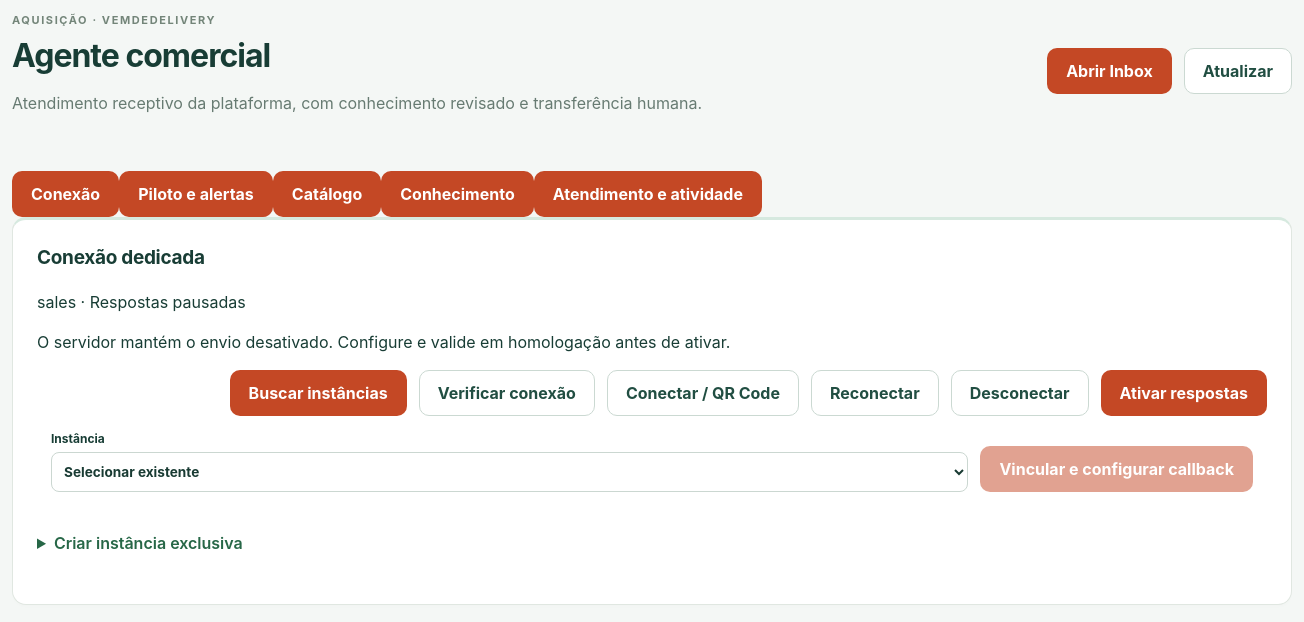
Test: separates commercial configuration and inbox without publishing invalid prices
Later steps or results of the test are not shown.
Click the tab "Catálogo".
click(327, 194)  # box [273,171,381,217]
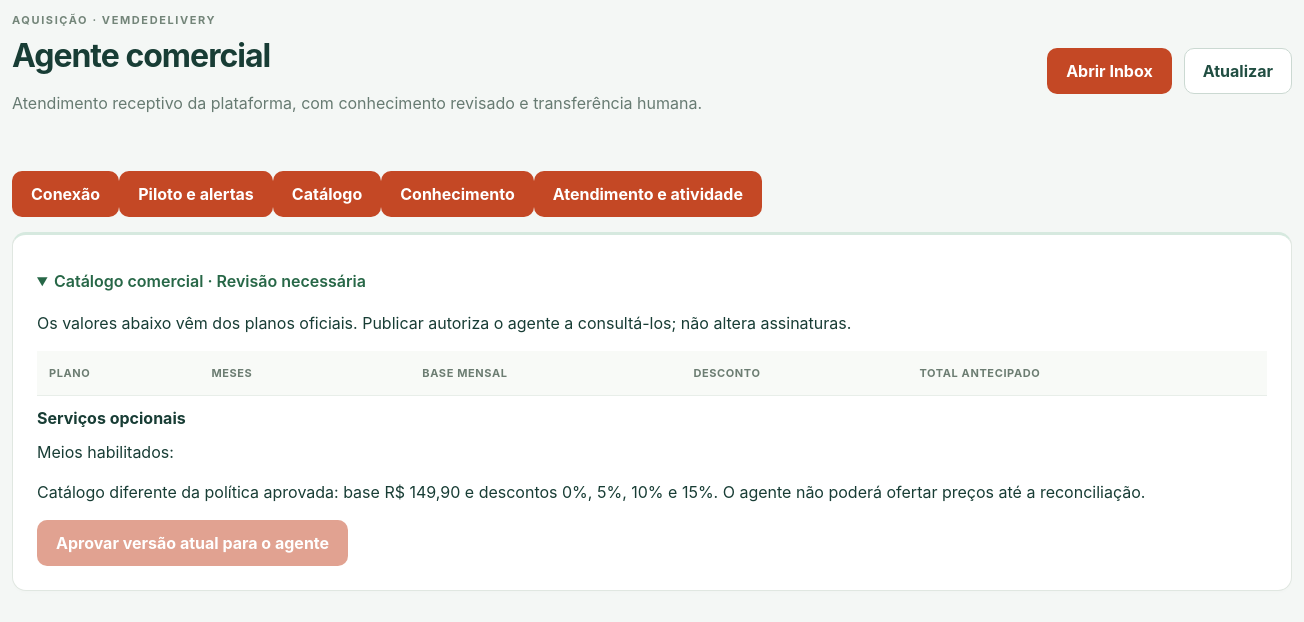
expect the button "Aprovar versão atual para o agente" is disabled: met, box [37,520,348,566]
